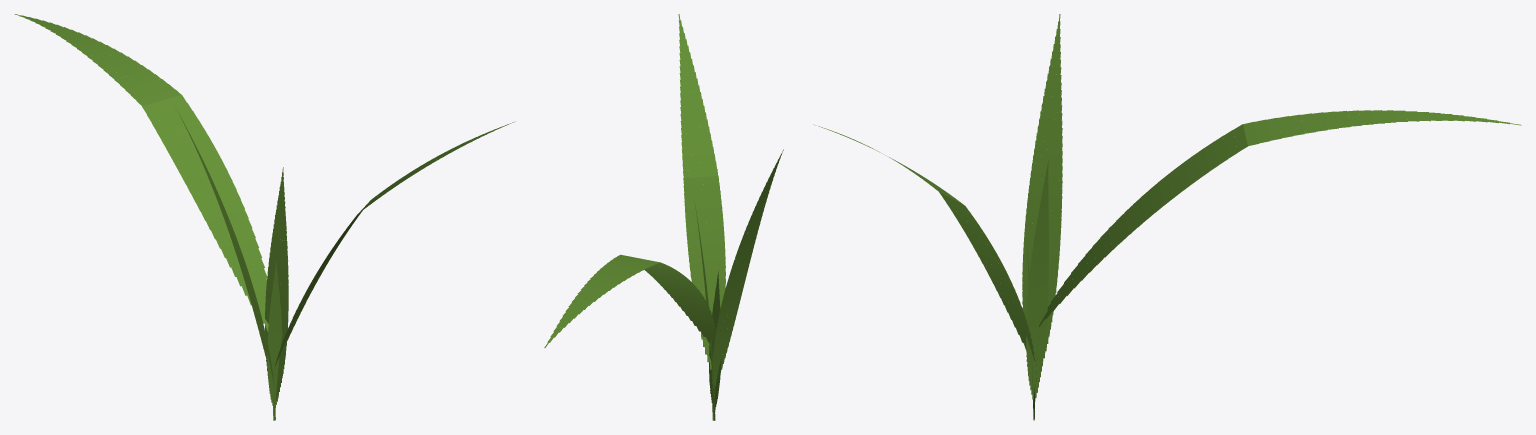
Rendered from maize_004_day_050.dae.
3 views of the same model, side by side, from view 1: azimuth 30°, elevation 25°; view 2: azimuth 150°, elevation 25°; view 3: azimuth 270°, elevation 25° (orthographic). The views are drawn at different scales.
Parts seen in each view (by area): view 1: node; view 2: node; view 3: node.
Boxes of the visible parts, x1,y1,x2,y2 form: node: (14,14,515,420); node: (544,14,783,420); node: (813,14,1521,420).
Size of the model in its own units: 0.1773 by 0.251 by 0.4356.
Materials: 1 (1 with a texture image).
